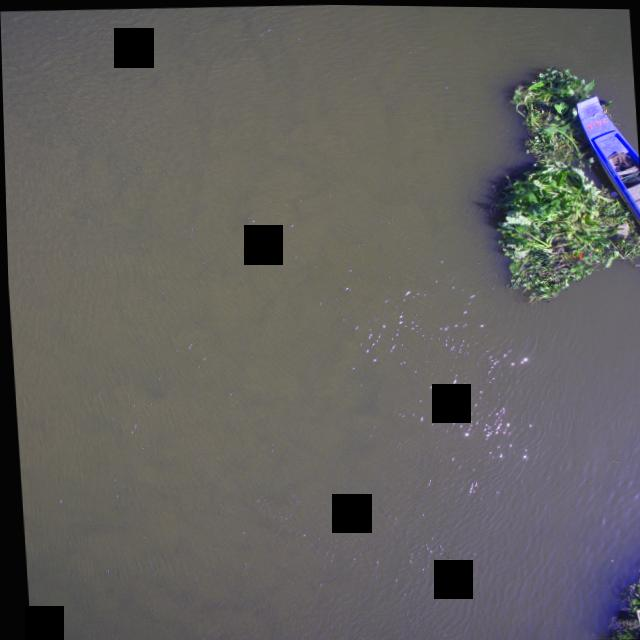plastic: (611, 220, 629, 235), (629, 606, 640, 628), (581, 155, 594, 163), (606, 188, 616, 198), (574, 249, 583, 259), (592, 245, 599, 250), (520, 261, 526, 265), (636, 598, 640, 604)
